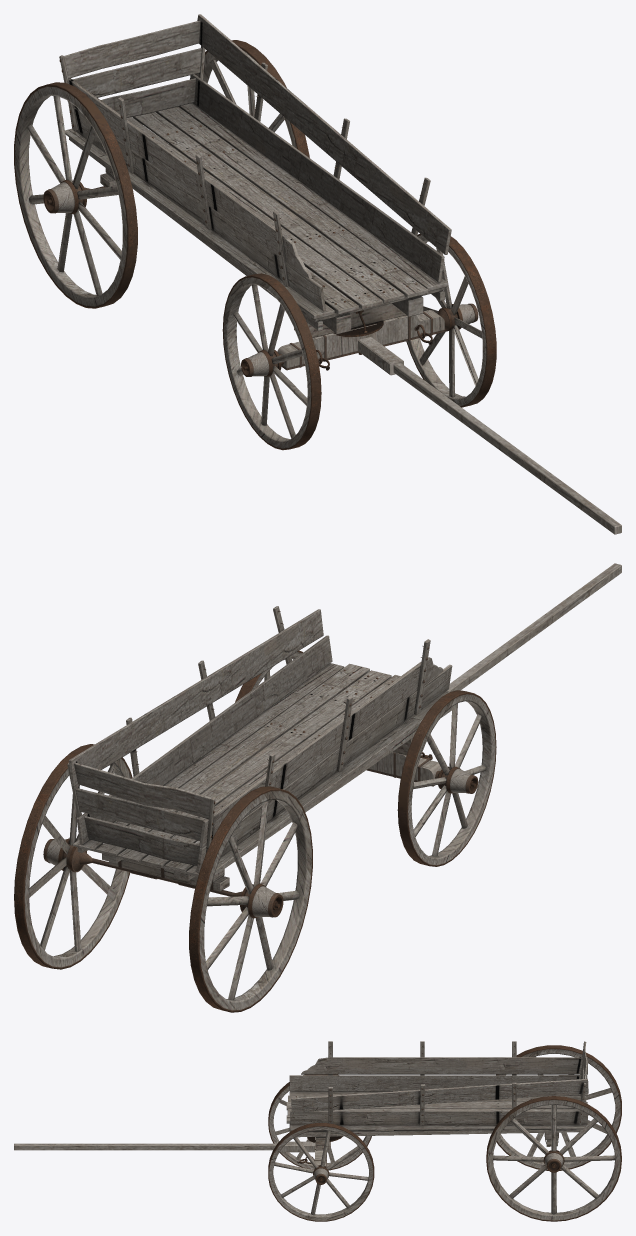
File: farm-box-near.glb
The picture shows the model from 3 angles, top to bottom: view 1: azimuth 30°, elevation 25°; view 2: azimuth 150°, elevation 25°; view 3: azimuth 270°, elevation 25°; orthographic projection. The views are drawn at different scales.
Visible parts, largest first — view 1: CartBody_CartBase_0, wheel_rr_CartDetails_0, wheel_fr_CartDetails_0, wheel_fl_CartDetails_0, single_reconstructed_pole, CartSteer_CartBase_0, wheel_rl_CartDetails_0, central_drawbar_bearing, CartSteer_CartDetails_0, CartBody_CartDetails_0; view 2: CartBody_CartBase_0, wheel_rr_CartDetails_0, wheel_rl_CartDetails_0, wheel_fr_CartDetails_0, single_reconstructed_pole, CartSteer_CartBase_0, CartBody_CartDetails_0; view 3: CartBody_CartBase_0, wheel_rl_CartDetails_0, wheel_fl_CartDetails_0, wheel_rr_CartDetails_0, single_reconstructed_pole, wheel_fr_CartDetails_0, central_drawbar_bearing.
Part boxes in pixels (x1,y1,x2,y2): CartBody_CartBase_0: [59, 14, 451, 337]; wheel_rr_CartDetails_0: [14, 82, 137, 308]; wheel_fr_CartDetails_0: [222, 273, 321, 450]; wheel_fl_CartDetails_0: [406, 234, 496, 407]; single_reconstructed_pole: [393, 363, 621, 534]; CartSteer_CartBase_0: [277, 310, 444, 368]; wheel_rl_CartDetails_0: [190, 40, 309, 157]; central_drawbar_bearing: [358, 337, 403, 375]; CartSteer_CartDetails_0: [281, 311, 444, 370]; CartBody_CartDetails_0: [59, 59, 425, 336]; CartBody_CartBase_0: [67, 606, 452, 891]; wheel_rr_CartDetails_0: [189, 786, 312, 1012]; wheel_rl_CartDetails_0: [14, 744, 132, 969]; wheel_fr_CartDetails_0: [397, 690, 496, 866]; single_reconstructed_pole: [447, 563, 621, 691]; CartSteer_CartBase_0: [368, 752, 441, 781]; CartBody_CartDetails_0: [92, 610, 429, 896]; CartBody_CartBase_0: [286, 1041, 588, 1150]; wheel_rl_CartDetails_0: [486, 1096, 621, 1221]; wheel_fl_CartDetails_0: [268, 1123, 374, 1221]; wheel_rr_CartDetails_0: [496, 1045, 621, 1170]; single_reconstructed_pole: [14, 1143, 276, 1150]; wheel_fr_CartDetails_0: [268, 1074, 371, 1170]; central_drawbar_bearing: [276, 1141, 330, 1152].
Bounding box in the file's own units: 1.6 × 1.5 × 6.14.
Materials: 2 (2 with a texture image).
